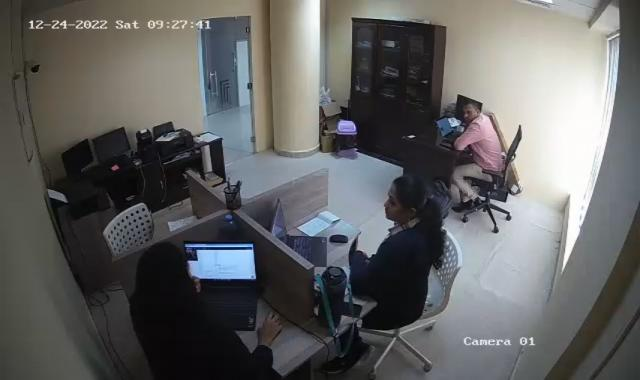no_hairnet: (141, 244, 192, 302), (383, 174, 426, 225), (462, 101, 482, 124)
